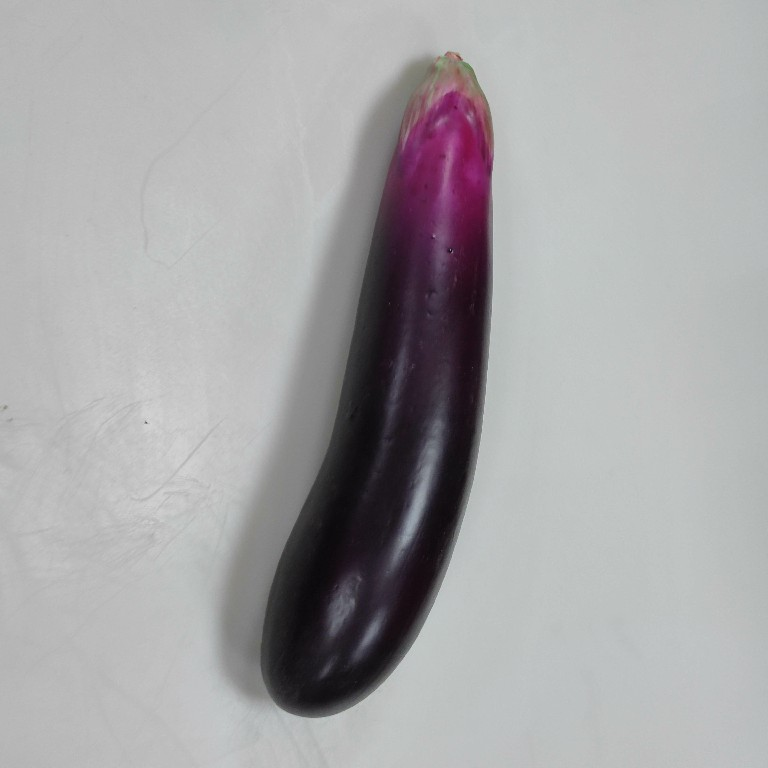fruit_eggplant: (253, 46, 502, 722)
